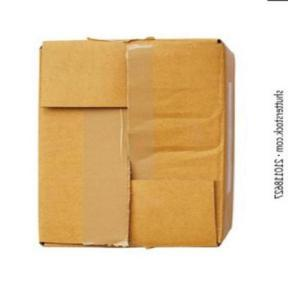box: (35, 31, 236, 254)
